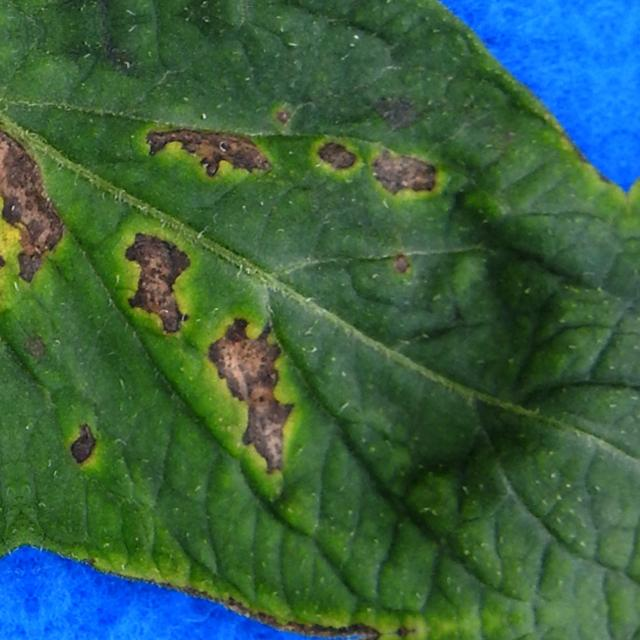Tomato leaf bacterial spot: (0, 0, 640, 640), (0, 119, 108, 640)
